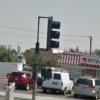Traffic light: (42, 9, 69, 53)
